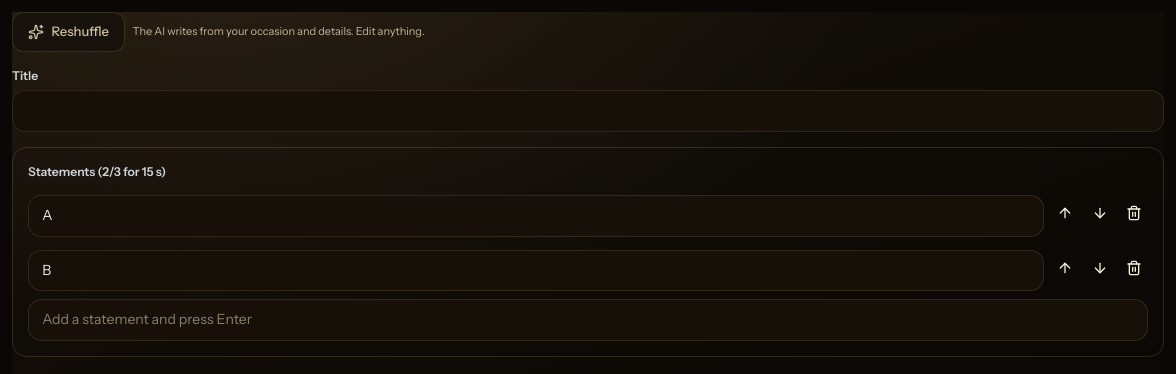
Test: MomentsWordsStep › slow saves (deferred, not instant) › typing in another statement survives while an earlier blur-save is in flight
In the field named "Statement 1": coordinates (536, 216) [28,195,1044,236], type "1"
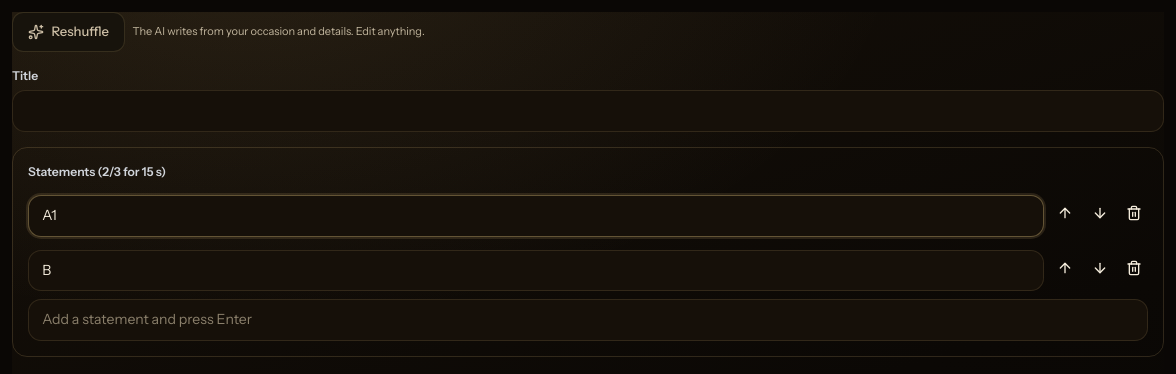
Click the field named "Statement 2": coordinates (536, 270) [28,250,1044,291]
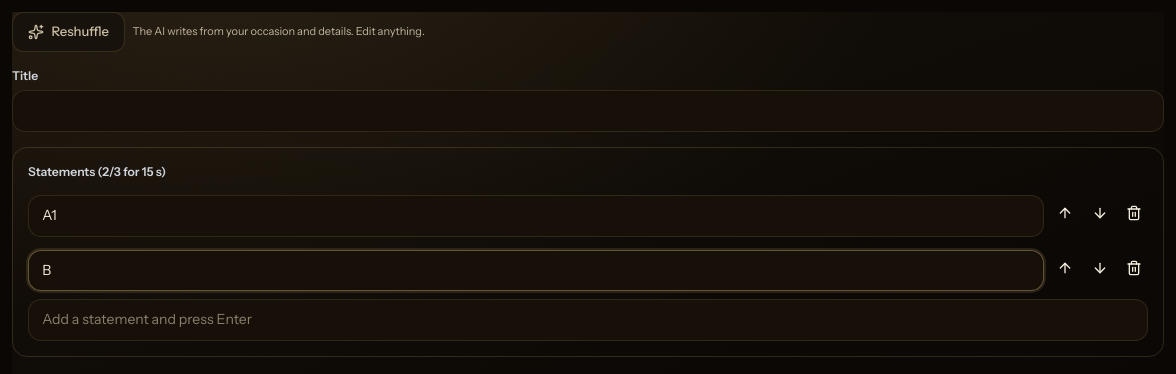
In the field named "Statement 2": coordinates (536, 270) [28,250,1044,291], type "xyz"
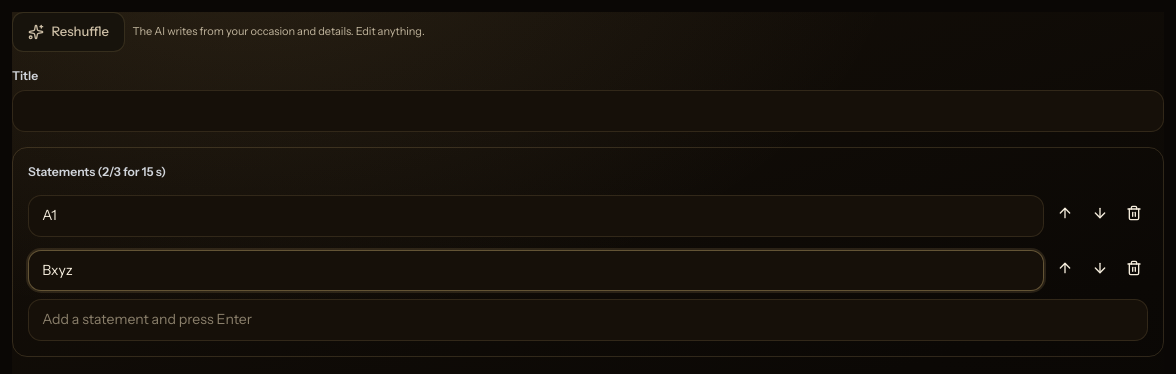
Expected: the field named "Statement 1" holds "A1", [28,195,1044,236]
Expected: the field named "Statement 2" holds "Bxyz", [28,250,1044,291]
